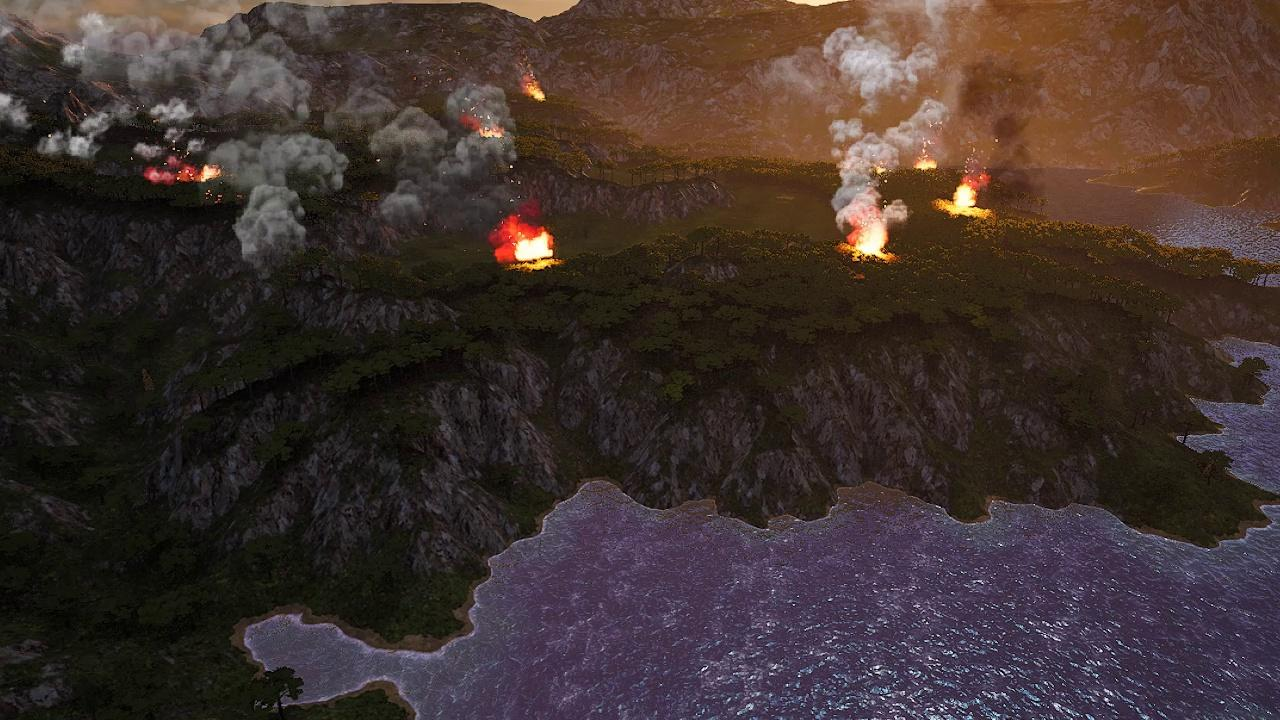fire: (497, 219, 557, 266), (148, 159, 221, 187), (941, 179, 990, 217), (843, 220, 889, 260), (473, 117, 506, 139), (782, 0, 845, 7), (528, 84, 549, 102), (914, 157, 938, 172)
smoke: (0, 0, 526, 279), (776, 0, 994, 227), (0, 89, 30, 132)
